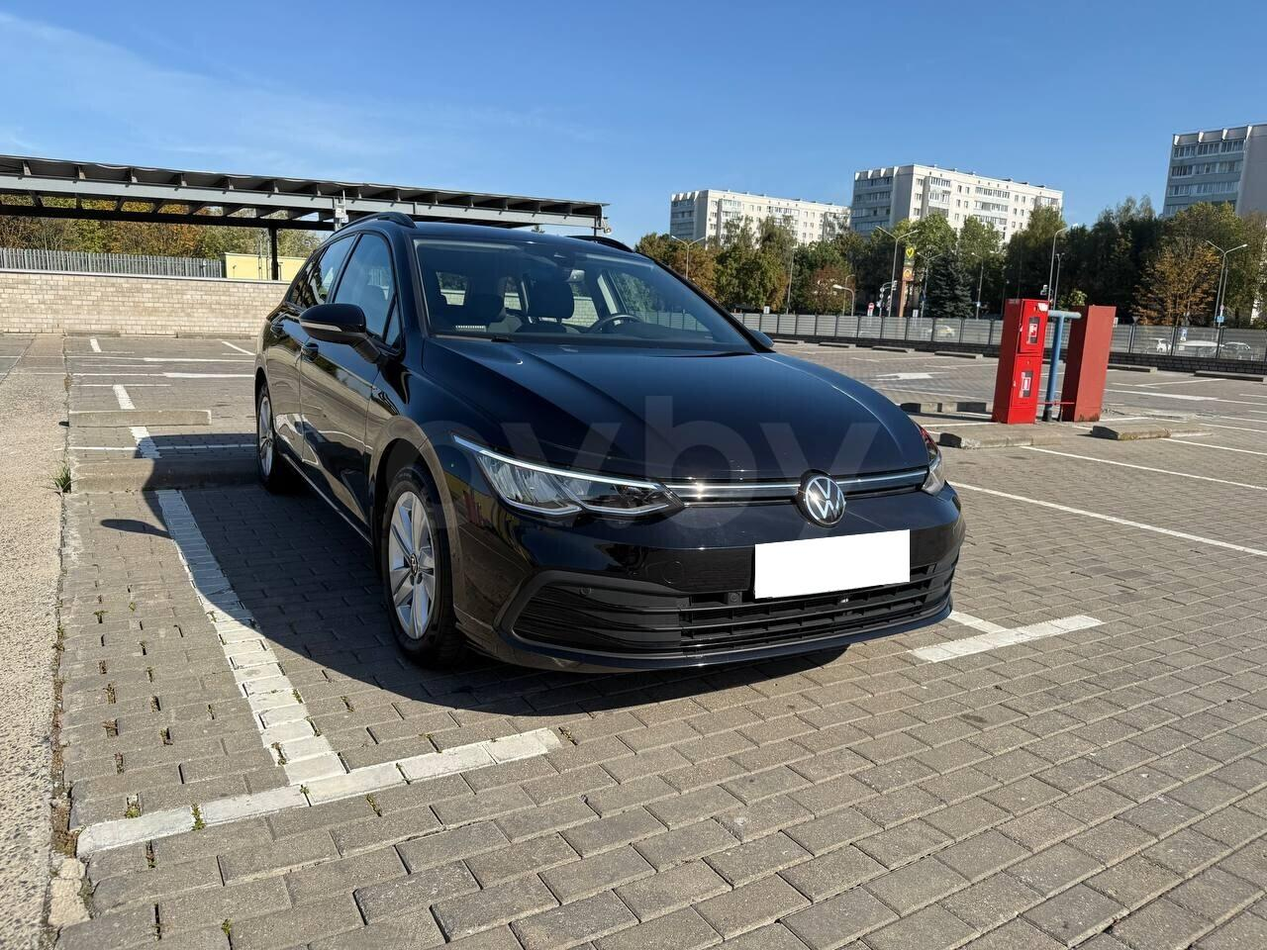Golf_2019: (247, 220, 976, 690)
